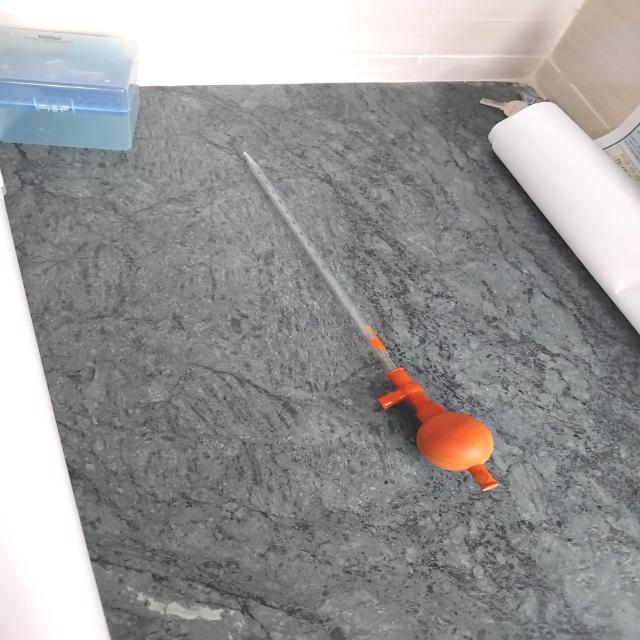Volumetric_Pipet: (190, 121, 573, 550)
